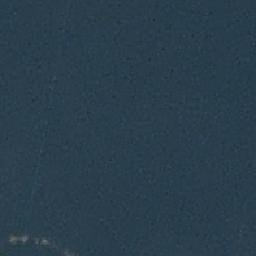debris: (6, 234, 54, 245)
